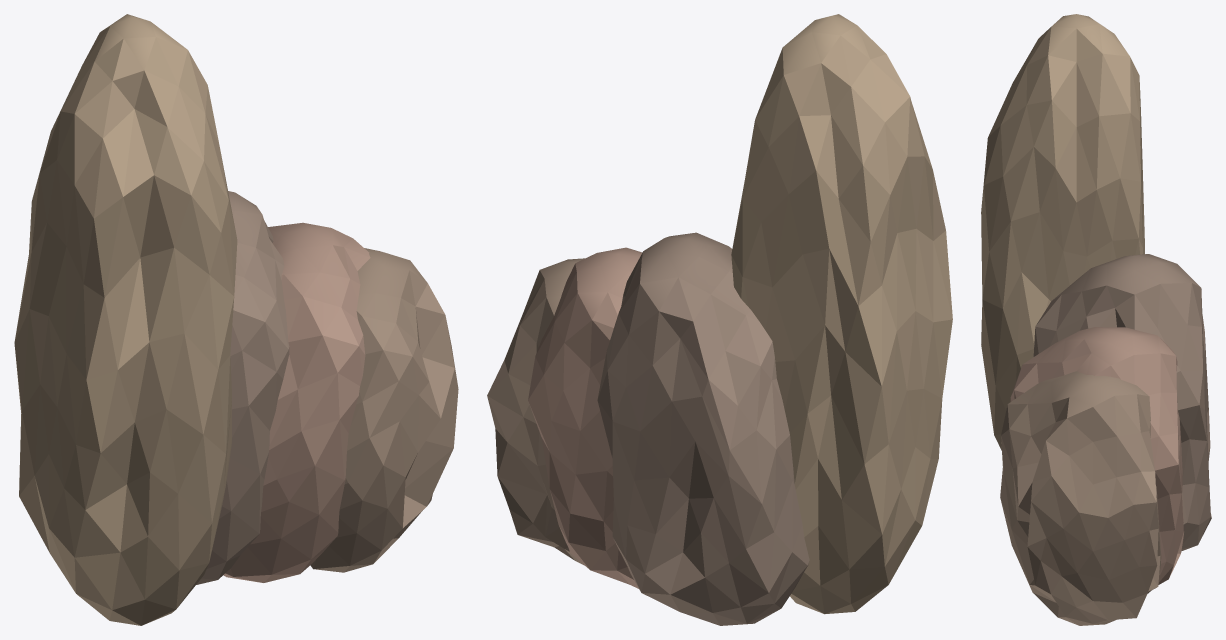
Rendered from Aiguille_6.fbx.
3 renders of one model, left to right at view 1: azimuth 30°, elevation 25°; view 2: azimuth 150°, elevation 25°; view 3: azimuth 270°, elevation 25°, orthographic. The views are drawn at different scales.
Visible parts, largest first — view 1: Aiguille_6; view 2: Aiguille_6; view 3: Aiguille_6.
Part boxes in pixels (x1,y1,x2,y2): Aiguille_6: (14,14,458,625); Aiguille_6: (487,14,952,625); Aiguille_6: (981,14,1211,625).
Bounding box in the file's own units: 249 × 370 × 149.
